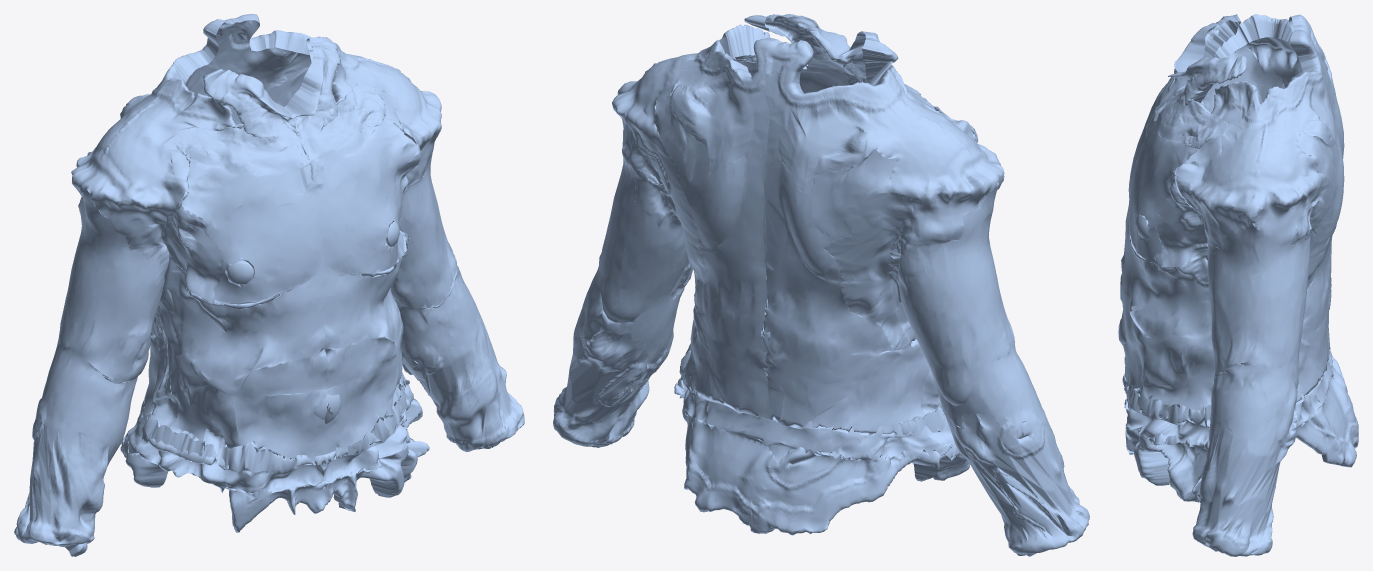
The model's file is top_dress.glb.
3 views of the same model, side by side, from view 1: azimuth 30°, elevation 25°; view 2: azimuth 150°, elevation 25°; view 3: azimuth 270°, elevation 25° (orthographic). The views are drawn at different scales.
Parts seen in each view (by area): view 1: top_dress; view 2: top_dress; view 3: top_dress.
Boxes of the visible parts, box(x1,y1,x2,y2) form: top_dress: box(14, 14, 524, 556); top_dress: box(553, 14, 1089, 556); top_dress: box(1118, 14, 1358, 556).
Size of the model in its own units: 0.6798 by 0.5977 by 0.2982.
1 material, 1 textured.
